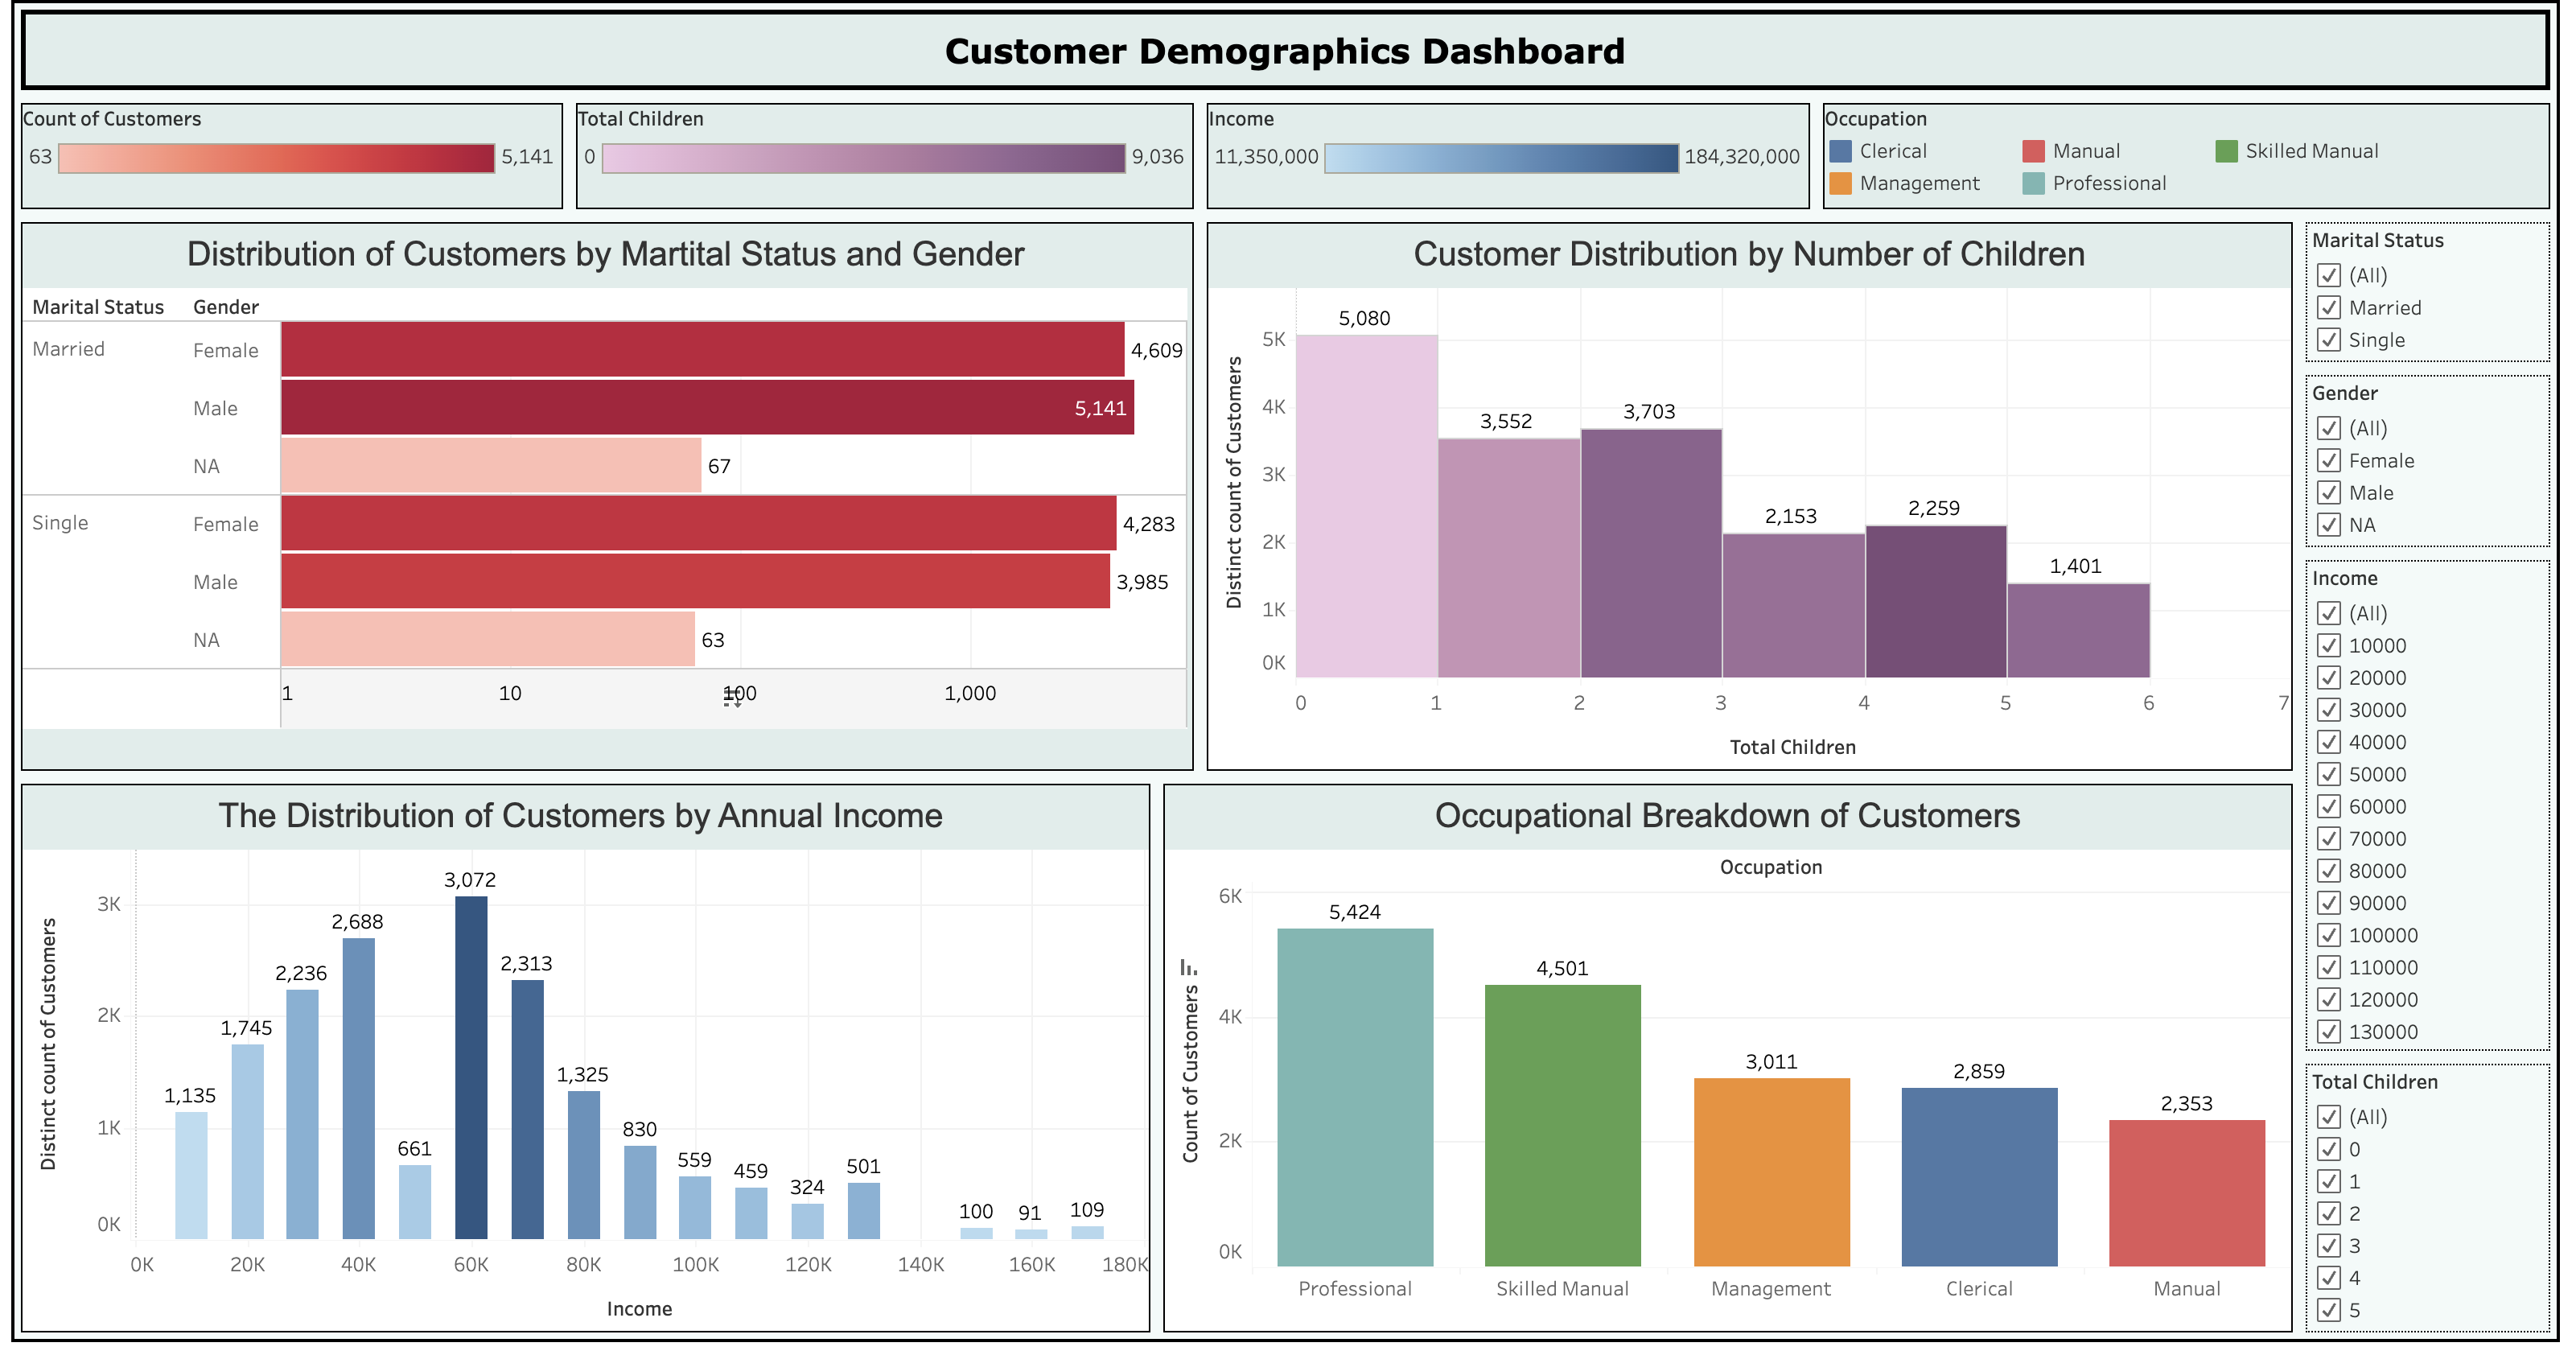

The dashboard page shown, as its layout file describes it:
{"tool":"tableau","page":{"name":"Customer Demographics Dashboard","canvas":[1600,850],"ordinal":0},"visuals":[{"type":"text","box":[10,10,1580,58]},{"type":"legend","title":"Distribution of Customers by Martital Status and Gender","param":"[federated.08hyrv91nuucvp1eubrd003z43lr].[__tableau_internal_object_id__].[cnt:A","box":[10,68,345.1,74]},{"type":"legend","title":"Customer Distribution by Number of Children","param":"[federated.08hyrv91nuucvp1eubrd003z43lr].[sum:TotalChildren:qk]","box":[355.1,68,392,74]},{"type":"legend","title":"The Distribution of Annual Income","param":"[federated.08hyrv91nuucvp1eubrd003z43lr].[sum:Calculation_1433833561035579392:qk","box":[747.1,68,382.9,74]},{"type":"legend","title":"Occupational Breakdown of Customers","param":"[federated.08hyrv91nuucvp1eubrd003z43lr].[none:Occupation:nk]","box":[1130,68,460,74]},{"type":"worksheet","title":"Distribution of Customers by Martital Status and Gender","mark":"Automatic","rows":["MaritalStatus","Gender"],"cols":["AdventureWorks_Customers.csv_066FF4F2832B4ACDAD66A29173FF4FE"],"box":[10,142,737,349]},{"type":"worksheet","title":"Customer Distribution by Number of Children","mark":"Bar","rows":["CustomerKey (AdventureWorks_Customers.csv)"],"cols":["TotalChildren"],"box":[747,142,683,349]},{"type":"filter","title":"Distribution of Customers by Martital Status and Gender","param":"[federated.08hyrv91nuucvp1eubrd003z43lr].[none:MaritalStatus:nk]","box":[1430,142,160,107]},{"type":"filter","title":"Distribution of Customers by Martital Status and Gender","param":"[federated.08hyrv91nuucvp1eubrd003z43lr].[none:Gender:nk]","box":[1430,249,160,130]},{"type":"filter","title":"The Distribution of Annual Income","param":"[federated.08hyrv91nuucvp1eubrd003z43lr].[none:Calculation_1433833561035579392:o","box":[1430,379,160,262]},{"type":"worksheet","title":"The Distribution of Annual Income","mark":"Bar","rows":["CustomerKey (AdventureWorks_Customers.csv)"],"cols":["Calculation_1433833561035579392"],"box":[10,491,710,349]},{"type":"worksheet","title":"Occupational Breakdown of Customers","mark":"Automatic","rows":["AdventureWorks_Customers.csv_066FF4F2832B4ACDAD66A29173FF4FE"],"cols":["Occupation"],"box":[720,491,710,349]},{"type":"filter","title":"Customer Distribution by Number of Children","param":"[federated.08hyrv91nuucvp1eubrd003z43lr].[none:TotalChildren:ok]","box":[1430,641,160,199]}]}

Visuals, with their boxes in screenshot pixels (x1, y1, x2, y2), scaled from the page's 1600x850 canvas onto the 2576x1355 screenshot:
text: box(16, 16, 2560, 109)
"Distribution of Customers by Martital Status and Gender" legend: box(16, 109, 572, 226)
"Customer Distribution by Number of Children" legend: box(572, 109, 1203, 226)
"The Distribution of Annual Income" legend: box(1203, 109, 1819, 226)
"Occupational Breakdown of Customers" legend: box(1819, 109, 2560, 226)
"Distribution of Customers by Martital Status and Gender" worksheet: box(16, 226, 1203, 783)
"Customer Distribution by Number of Children" worksheet (Bar marks): box(1203, 226, 2302, 783)
"Distribution of Customers by Martital Status and Gender" filter: box(2302, 226, 2560, 397)
"Distribution of Customers by Martital Status and Gender" filter: box(2302, 397, 2560, 604)
"The Distribution of Annual Income" filter: box(2302, 604, 2560, 1022)
"The Distribution of Annual Income" worksheet (Bar marks): box(16, 783, 1159, 1339)
"Occupational Breakdown of Customers" worksheet: box(1159, 783, 2302, 1339)
"Customer Distribution by Number of Children" filter: box(2302, 1022, 2560, 1339)
